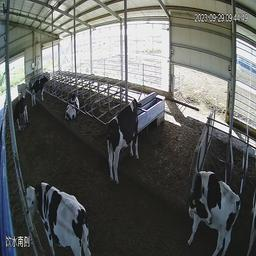cow: (21, 181, 93, 254), (185, 166, 241, 256), (102, 93, 145, 186), (28, 74, 51, 106), (11, 98, 33, 127), (63, 88, 81, 123), (16, 79, 29, 99)
